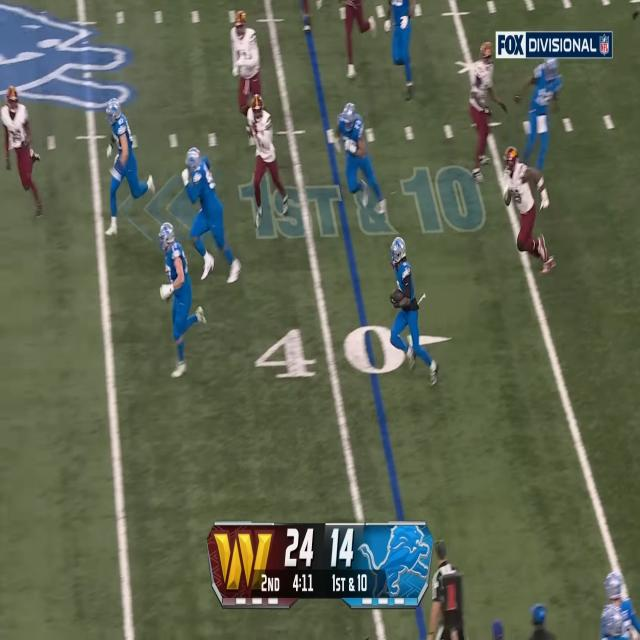Ball: (390, 289, 404, 303)
